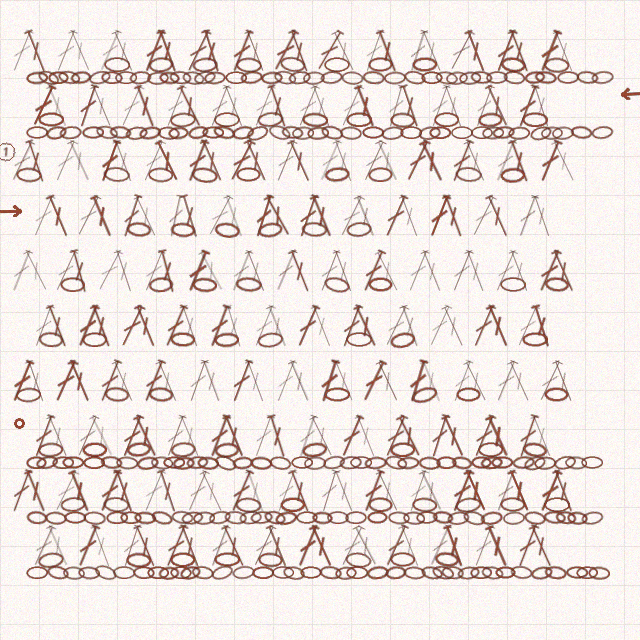chain: (410, 384, 439, 406), (323, 275, 351, 295), (389, 330, 416, 350), (279, 55, 306, 74), (37, 551, 65, 569), (36, 68, 61, 88), (245, 123, 270, 143), (213, 453, 238, 473), (191, 166, 218, 184), (257, 221, 284, 239), (257, 331, 284, 349), (301, 441, 328, 459), (455, 496, 482, 514), (345, 551, 372, 569), (267, 123, 292, 142), (93, 563, 118, 582), (210, 563, 235, 582), (214, 221, 240, 239), (522, 441, 548, 459), (257, 111, 284, 128), (103, 166, 130, 183), (455, 166, 482, 183), (301, 221, 328, 238), (235, 276, 262, 293), (103, 496, 130, 513), (148, 56, 174, 73), (500, 56, 526, 73), (324, 166, 350, 183), (126, 221, 152, 238), (346, 221, 372, 238), (148, 276, 174, 293), (544, 276, 570, 293), (38, 331, 64, 348), (104, 386, 130, 403), (148, 386, 174, 403), (126, 441, 152, 458), (170, 441, 196, 458), (60, 496, 86, 513), (434, 551, 460, 568), (529, 124, 553, 142), (523, 454, 547, 472), (235, 497, 262, 513), (150, 509, 174, 527), (462, 509, 486, 527), (192, 57, 218, 73), (236, 57, 262, 73), (170, 112, 196, 128), (302, 112, 328, 128), (16, 167, 42, 183), (170, 222, 196, 238), (214, 442, 240, 458), (57, 69, 81, 86), (88, 69, 112, 86), (193, 69, 217, 86), (273, 69, 297, 86), (403, 69, 427, 86), (95, 124, 119, 141), (212, 124, 236, 141), (231, 124, 255, 141), (320, 124, 344, 141), (35, 454, 59, 471), (322, 454, 346, 471), (384, 454, 408, 471), (553, 454, 577, 471), (208, 509, 232, 526), (263, 509, 287, 526), (46, 564, 70, 581), (431, 564, 455, 581), (544, 57, 569, 73), (390, 112, 415, 128), (478, 112, 503, 128), (148, 167, 173, 183), (500, 167, 525, 183), (192, 277, 217, 293), (214, 332, 239, 348), (16, 387, 41, 403), (38, 442, 63, 458), (412, 497, 437, 513), (126, 552, 151, 568), (258, 552, 283, 568), (45, 124, 68, 141), (187, 124, 210, 141), (179, 564, 202, 581), (104, 57, 130, 72), (324, 57, 350, 72), (38, 112, 64, 127), (214, 112, 240, 127), (346, 112, 372, 127), (522, 112, 548, 127), (500, 277, 526, 292), (346, 332, 372, 347), (522, 332, 548, 347), (324, 387, 350, 402), (544, 497, 570, 512), (214, 552, 240, 567), (138, 125, 162, 141), (274, 510, 298, 526), (523, 510, 547, 526), (282, 565, 306, 581), (420, 565, 444, 581), (530, 565, 554, 581), (368, 57, 393, 72), (412, 57, 437, 72), (434, 112, 459, 127), (236, 167, 261, 182), (368, 167, 393, 182), (60, 277, 85, 292), (368, 277, 393, 292), (82, 332, 107, 347), (170, 332, 195, 347), (456, 387, 481, 402), (544, 387, 569, 402), (82, 442, 107, 457), (390, 442, 415, 457), (478, 442, 503, 457), (280, 497, 305, 512), (368, 497, 393, 512), (500, 497, 525, 512), (170, 552, 195, 567), (390, 552, 415, 567), (182, 70, 205, 86), (435, 70, 458, 86), (125, 125, 148, 141), (381, 125, 404, 141), (418, 125, 441, 141), (136, 455, 159, 471), (269, 455, 292, 471), (181, 510, 204, 526), (447, 510, 470, 526), (480, 510, 503, 526), (581, 510, 604, 526), (457, 565, 480, 581), (481, 565, 504, 581), (451, 455, 473, 471), (129, 70, 152, 85), (169, 70, 192, 85), (240, 70, 263, 85), (288, 70, 311, 85), (320, 70, 343, 85), (362, 70, 385, 85), (470, 70, 493, 85), (503, 70, 526, 85), (534, 70, 557, 85), (576, 70, 599, 85), (591, 70, 614, 85), (59, 125, 82, 140), (109, 125, 132, 140), (281, 125, 304, 140), (492, 125, 515, 140), (570, 125, 593, 140), (591, 125, 614, 140), (100, 455, 123, 470), (186, 455, 209, 470), (339, 455, 362, 470), (480, 455, 503, 470), (512, 455, 535, 470), (171, 510, 194, 525), (224, 510, 247, 525), (239, 510, 262, 525), (250, 510, 273, 525), (543, 510, 566, 525), (191, 565, 214, 580), (232, 565, 255, 580), (319, 565, 342, 580), (366, 565, 389, 580), (441, 565, 464, 580), (510, 565, 533, 580), (544, 565, 567, 580), (70, 70, 92, 85), (524, 70, 546, 85), (26, 510, 48, 525), (432, 510, 454, 525), (555, 510, 577, 525), (385, 565, 407, 580), (341, 71, 364, 85), (157, 126, 180, 140), (172, 456, 195, 470), (364, 456, 387, 470), (418, 456, 441, 470), (83, 511, 106, 525), (403, 566, 426, 580), (26, 71, 48, 85), (147, 71, 169, 85), (204, 71, 226, 85), (261, 71, 283, 85), (303, 71, 325, 85), (384, 71, 406, 85), (446, 71, 468, 85), (459, 71, 481, 85), (292, 126, 314, 140), (307, 126, 329, 140), (340, 126, 362, 140), (482, 126, 504, 140), (508, 126, 530, 140), (541, 126, 563, 140), (552, 126, 574, 140), (116, 456, 138, 470), (151, 456, 173, 470), (197, 456, 219, 470), (232, 456, 254, 470), (250, 456, 272, 470), (304, 456, 326, 470), (397, 456, 419, 470), (534, 456, 556, 470), (565, 456, 587, 470), (45, 511, 67, 525), (134, 511, 156, 525), (193, 511, 215, 525), (388, 511, 410, 525), (403, 511, 425, 525), (503, 511, 525, 525), (63, 566, 85, 580), (78, 566, 100, 580), (158, 566, 180, 580), (335, 566, 357, 580), (588, 566, 610, 580), (159, 71, 180, 85), (168, 126, 189, 140), (312, 511, 333, 525), (567, 511, 588, 525), (101, 71, 123, 84), (115, 71, 137, 84), (225, 71, 247, 84), (421, 71, 443, 84), (486, 71, 508, 84), (557, 71, 579, 84), (26, 126, 48, 139), (82, 126, 104, 139), (202, 126, 224, 139), (362, 126, 384, 139), (400, 126, 422, 139), (429, 126, 451, 139), (451, 126, 473, 139), (471, 126, 493, 139), (52, 456, 74, 469), (62, 456, 84, 469), (83, 456, 105, 469), (163, 456, 185, 469), (291, 456, 313, 469), (350, 456, 372, 469), (491, 456, 513, 469), (581, 456, 603, 469), (64, 511, 86, 524), (106, 511, 128, 524), (120, 511, 142, 524), (296, 511, 318, 524), (327, 511, 349, 524), (345, 511, 367, 524), (416, 511, 438, 524), (26, 566, 48, 579), (113, 566, 135, 579), (133, 566, 155, 579), (147, 566, 169, 579), (170, 566, 192, 579), (252, 566, 274, 579), (272, 566, 294, 579), (300, 566, 322, 579), (346, 566, 368, 579), (470, 566, 492, 579), (566, 566, 588, 579), (576, 566, 598, 579), (48, 71, 69, 84), (26, 456, 47, 469), (436, 456, 457, 469), (471, 456, 492, 469), (367, 511, 388, 524), (495, 566, 516, 579)
double: (312, 28, 347, 73), (203, 193, 237, 238), (261, 193, 295, 238), (335, 193, 368, 239), (467, 193, 500, 239), (371, 248, 404, 294), (393, 413, 426, 459), (269, 28, 302, 73), (445, 28, 478, 73), (225, 138, 258, 183), (93, 248, 126, 293), (195, 248, 228, 293), (349, 523, 382, 568), (182, 28, 214, 74), (328, 28, 360, 74), (174, 83, 206, 129), (6, 138, 38, 184), (358, 138, 390, 184), (416, 138, 448, 184), (548, 138, 580, 184), (130, 193, 162, 239), (116, 303, 148, 349), (350, 303, 382, 349), (380, 303, 412, 349), (358, 358, 390, 404), (372, 358, 404, 404), (460, 358, 492, 404), (534, 358, 566, 404), (130, 413, 162, 459), (306, 413, 338, 459), (482, 413, 514, 459), (50, 468, 82, 514), (196, 468, 228, 514), (372, 468, 404, 514), (218, 523, 250, 569), (248, 523, 280, 569), (336, 523, 368, 569), (72, 193, 104, 238), (20, 248, 52, 293), (86, 413, 118, 458), (108, 28, 139, 74), (116, 83, 147, 129), (336, 83, 367, 129), (50, 138, 81, 184), (138, 138, 169, 184), (284, 138, 315, 184), (460, 138, 491, 184), (28, 193, 59, 239), (380, 193, 411, 239), (482, 193, 513, 239), (358, 248, 389, 294), (490, 248, 521, 294), (534, 248, 565, 294), (548, 248, 579, 294), (160, 303, 191, 349), (292, 303, 323, 349), (438, 303, 469, 349), (468, 303, 499, 349), (512, 303, 543, 349), (50, 358, 81, 404), (64, 358, 95, 404), (108, 358, 139, 404), (152, 358, 183, 404), (284, 358, 315, 404), (504, 358, 535, 404), (72, 413, 103, 459), (336, 413, 367, 459), (380, 413, 411, 459), (438, 413, 469, 459), (182, 468, 213, 514), (226, 468, 257, 514), (28, 523, 59, 569), (130, 523, 161, 569), (306, 523, 337, 569), (482, 523, 513, 569), (526, 523, 557, 569), (28, 83, 59, 128), (482, 83, 513, 128), (64, 138, 95, 183), (152, 138, 183, 183), (372, 138, 403, 183), (402, 138, 433, 183), (50, 248, 81, 293), (424, 303, 455, 348), (416, 468, 447, 513), (7, 28, 37, 74), (21, 28, 51, 74), (51, 28, 81, 74), (227, 28, 257, 74), (417, 28, 447, 74), (535, 28, 565, 74), (549, 28, 579, 74), (219, 83, 249, 129), (249, 83, 279, 129), (293, 83, 323, 129), (447, 138, 477, 184), (535, 138, 565, 184), (43, 193, 73, 239), (87, 193, 117, 239), (307, 193, 337, 239), (139, 248, 169, 294), (183, 248, 213, 294), (241, 248, 271, 294), (285, 248, 315, 294), (403, 248, 433, 294), (417, 248, 447, 294), (447, 248, 477, 294), (73, 303, 103, 349), (249, 303, 279, 349), (307, 303, 337, 349), (483, 303, 513, 349), (7, 358, 37, 404), (95, 358, 125, 404), (139, 358, 169, 404), (491, 358, 521, 404), (43, 413, 73, 459), (117, 413, 147, 459), (175, 413, 205, 459), (219, 413, 249, 459), (351, 413, 381, 459), (469, 413, 499, 459), (527, 413, 557, 459), (21, 468, 51, 514), (95, 468, 125, 514), (139, 468, 169, 514), (285, 468, 315, 514), (329, 468, 359, 514), (447, 468, 477, 514), (535, 468, 565, 514), (73, 523, 103, 569), (161, 523, 191, 569), (65, 28, 95, 73), (95, 28, 125, 73), (197, 138, 227, 183), (241, 138, 271, 183), (315, 138, 345, 183), (271, 248, 301, 293), (461, 468, 491, 513), (43, 523, 73, 568), (381, 523, 411, 568), (425, 523, 455, 568), (153, 28, 182, 74), (241, 28, 270, 74), (285, 28, 314, 74), (373, 28, 402, 74), (491, 28, 520, 74), (505, 28, 534, 74), (43, 83, 72, 129), (87, 83, 116, 129), (131, 83, 160, 129), (161, 83, 190, 129), (205, 83, 234, 129), (307, 83, 336, 129), (351, 83, 380, 129), (439, 83, 468, 129), (513, 83, 542, 129), (109, 138, 138, 184), (183, 138, 212, 184), (271, 138, 300, 184), (329, 138, 358, 184), (491, 138, 520, 184), (505, 138, 534, 184), (351, 193, 380, 239), (395, 193, 424, 239), (425, 193, 454, 239), (439, 193, 468, 239), (513, 193, 542, 239), (7, 248, 36, 294), (227, 248, 256, 294), (315, 248, 344, 294), (329, 248, 358, 294), (461, 248, 490, 294), (505, 248, 534, 294), (29, 303, 58, 349), (43, 303, 72, 349), (87, 303, 116, 349), (131, 303, 160, 349), (205, 303, 234, 349), (263, 303, 292, 349), (337, 303, 366, 349), (197, 358, 226, 404), (227, 358, 256, 404), (241, 358, 270, 404), (271, 358, 300, 404), (417, 358, 446, 404), (549, 358, 578, 404), (29, 413, 58, 459), (161, 413, 190, 459), (205, 413, 234, 459), (249, 413, 278, 459), (7, 468, 36, 514), (65, 468, 94, 514), (359, 468, 388, 514), (491, 468, 520, 514), (549, 468, 578, 514), (87, 523, 116, 569), (205, 523, 234, 569), (263, 523, 292, 569), (293, 523, 322, 569), (395, 523, 424, 569), (469, 523, 498, 569), (513, 523, 542, 569), (329, 358, 358, 403), (505, 468, 534, 513), (140, 28, 168, 74), (360, 28, 388, 74), (462, 28, 490, 74), (74, 83, 102, 129), (264, 83, 292, 129), (396, 83, 424, 129), (426, 83, 454, 129), (470, 83, 498, 129), (22, 138, 50, 184), (96, 138, 124, 184), (220, 193, 248, 239), (294, 193, 322, 239), (110, 248, 138, 294), (176, 303, 204, 349), (396, 303, 424, 349), (22, 358, 50, 404), (184, 358, 212, 404), (448, 358, 476, 404), (514, 413, 542, 459), (110, 468, 138, 514), (272, 468, 300, 514), (404, 468, 432, 514), (176, 523, 204, 569), (440, 523, 468, 569), (198, 28, 225, 74), (528, 83, 555, 129), (118, 193, 145, 239), (528, 193, 555, 239), (528, 303, 555, 349), (316, 358, 343, 404), (264, 413, 291, 459), (294, 413, 321, 459), (426, 413, 453, 459), (154, 468, 181, 514), (242, 468, 269, 514), (316, 468, 343, 514), (118, 523, 145, 569), (405, 28, 431, 74), (383, 83, 409, 129), (177, 193, 203, 239), (251, 193, 277, 239), (221, 303, 247, 349), (405, 358, 431, 404), (67, 248, 92, 294), (155, 248, 180, 294), (164, 193, 187, 239)
noise: (0, 140, 18, 164), (0, 205, 24, 217), (618, 87, 640, 100), (12, 416, 26, 430)
